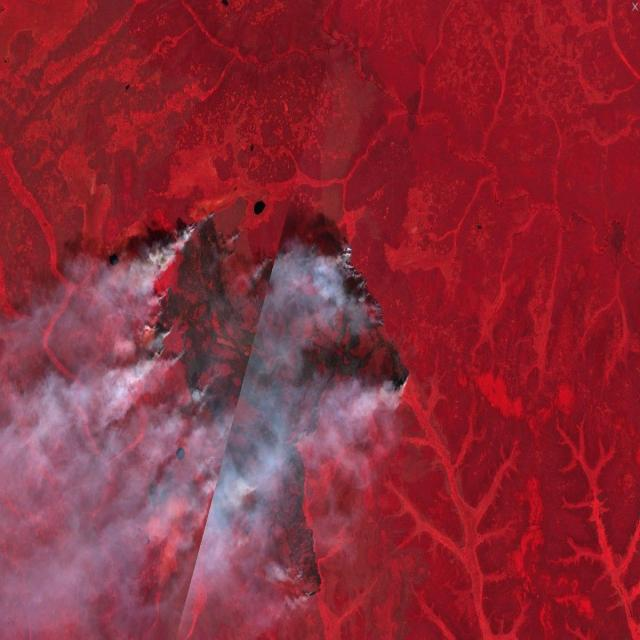fire: (125, 203, 271, 412), (321, 213, 415, 418), (240, 457, 327, 618)
